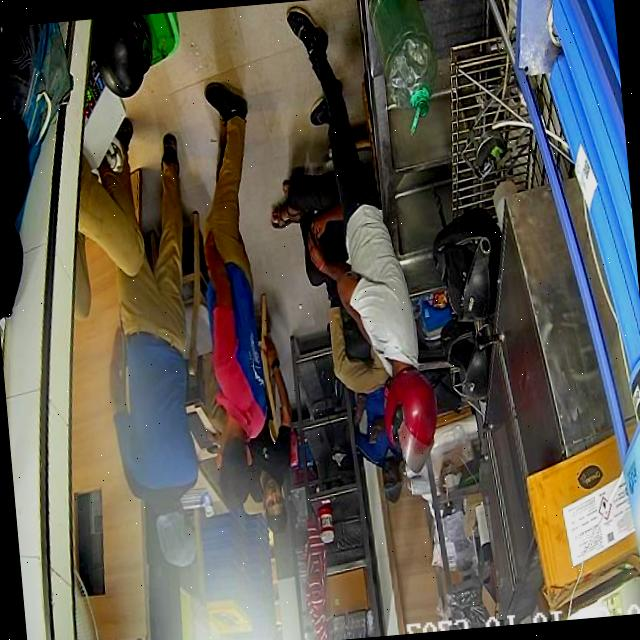helmet: (433, 208, 500, 321), (383, 368, 437, 471), (439, 317, 492, 399)
no_helmet: (217, 414, 251, 509), (154, 500, 196, 567), (261, 476, 286, 534), (382, 457, 402, 503)
